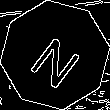N_NE: (24, 23, 86, 87)
